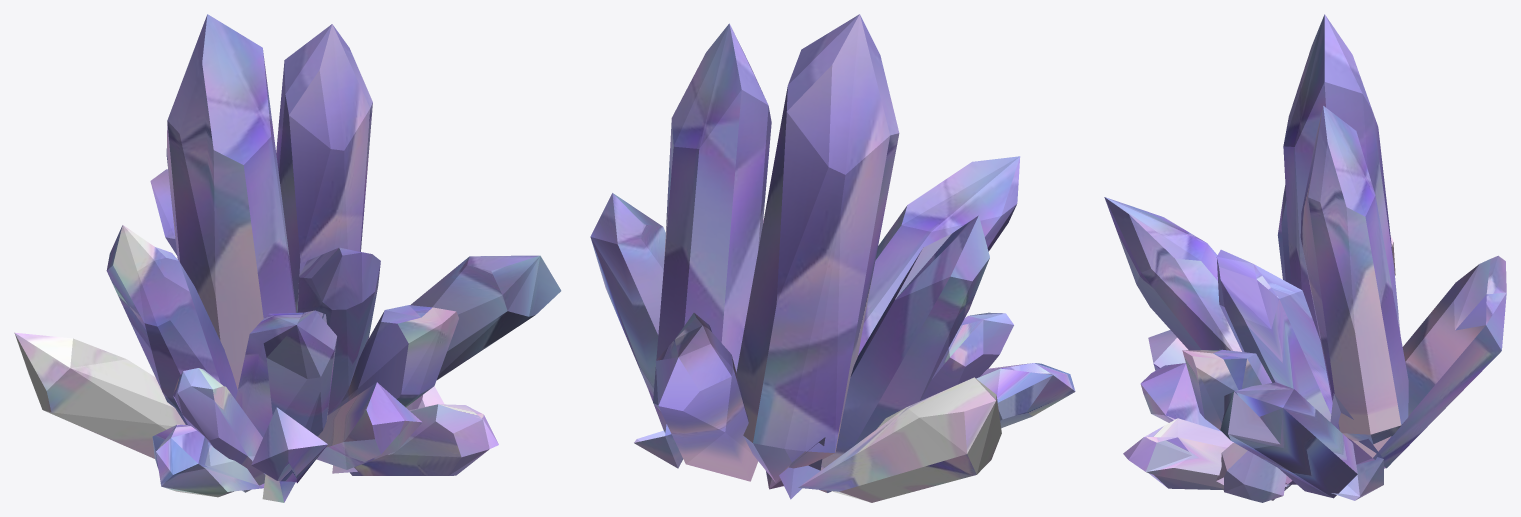
Rendered from crystal.fbx.
3 views of the same model, side by side, from view 1: azimuth 30°, elevation 25°; view 2: azimuth 150°, elevation 25°; view 3: azimuth 270°, elevation 25° (orthographic). The views are drawn at different scales.
Parts seen in each view (by area): view 1: pasted__polySurface2; view 2: pasted__polySurface2; view 3: pasted__polySurface2.
Boxes of the visible parts, <box> form: pasted__polySurface2: <box>14,14,561,502</box>; pasted__polySurface2: <box>590,14,1075,502</box>; pasted__polySurface2: <box>1104,14,1506,502</box>.
Size of the model in its own units: 16.88 by 16.28 by 13.91.
